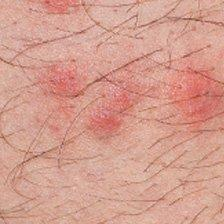Fleas: (80, 79, 138, 144), (37, 59, 83, 103), (33, 0, 79, 13)
